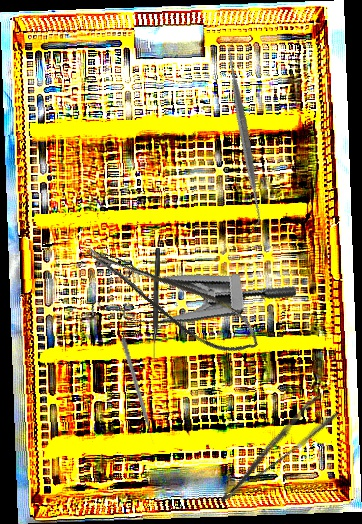Dressing Forceps: (203, 390, 341, 506)
Hook Surgical: (152, 247, 160, 363)
Micro Scissor: (82, 218, 268, 372)
Pusher: (119, 336, 156, 446)
Spatula Surgical: (148, 39, 340, 231)
Speculum: (74, 202, 299, 358)
